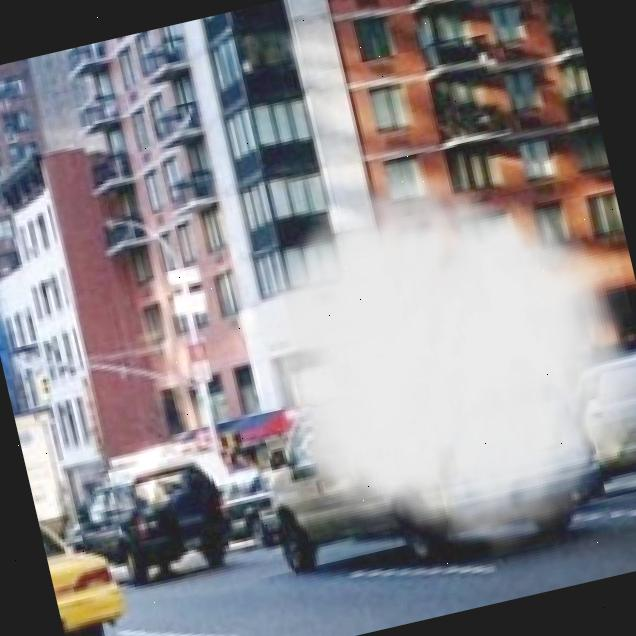smoke: (202, 116, 636, 603)
